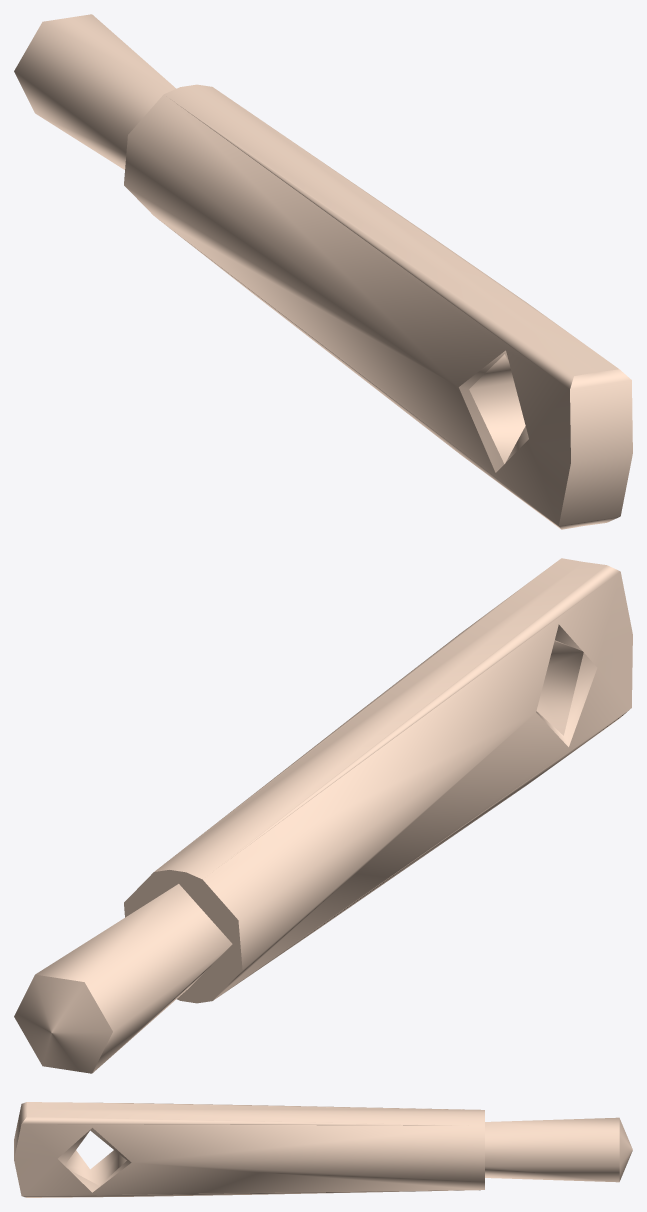
The model's file is Guide tige d_arret volant.obj.
3 renders of one model, top to bottom at view 1: azimuth 30°, elevation 25°; view 2: azimuth 150°, elevation 25°; view 3: azimuth 270°, elevation 25°, orthographic. The views are drawn at different scales.
Parts seen in each view (by area): view 1: Face_4, Face_5, Face_15, Face_10, Face_11, Face_9, Face_12, Face_13, Face_6, Face_8; view 2: Face_4, Face_5, Face_15, Face_16, Face_1, Face_9, Face_12, Face_13, Face_6, Face_8; view 3: Face_3, Face_15, Face_5, Face_8, Face_12, Face_7, Face_14, Face_16, Face_9, Face_10.
Part boxes in pixels (bbox=[...]): Face_4: bbox=[124, 94, 570, 525]; Face_5: bbox=[164, 84, 618, 375]; Face_15: bbox=[14, 14, 176, 169]; Face_10: bbox=[570, 369, 632, 462]; Face_11: bbox=[559, 453, 632, 529]; Face_9: bbox=[169, 98, 573, 389]; Face_12: bbox=[469, 354, 525, 463]; Face_13: bbox=[459, 350, 528, 472]; Face_6: bbox=[164, 224, 560, 528]; Face_8: bbox=[226, 96, 611, 363]; Face_4: bbox=[203, 571, 632, 999]; Face_5: bbox=[154, 558, 606, 879]; Face_15: bbox=[35, 884, 232, 1072]; Face_16: bbox=[14, 974, 112, 1073]; Face_1: bbox=[124, 870, 242, 1003]; Face_9: bbox=[207, 565, 620, 875]; Face_12: bbox=[536, 640, 583, 735]; Face_13: bbox=[536, 624, 597, 746]; Face_6: bbox=[220, 708, 631, 995]; Face_8: bbox=[164, 563, 554, 863]; Face_3: bbox=[14, 1124, 484, 1195]; Face_15: bbox=[485, 1117, 619, 1182]; Face_5: bbox=[27, 1102, 484, 1125]; Face_8: bbox=[22, 1117, 468, 1125]; Face_12: bbox=[64, 1150, 126, 1185]; Face_7: bbox=[22, 1190, 480, 1197]; Face_14: bbox=[58, 1128, 131, 1192]; Face_16: bbox=[619, 1118, 632, 1181]; Face_9: bbox=[36, 1102, 480, 1109]; Face_10: bbox=[14, 1102, 27, 1158].
Size of the model in its own units: 0.00286 by 0.00357 by 0.023.
